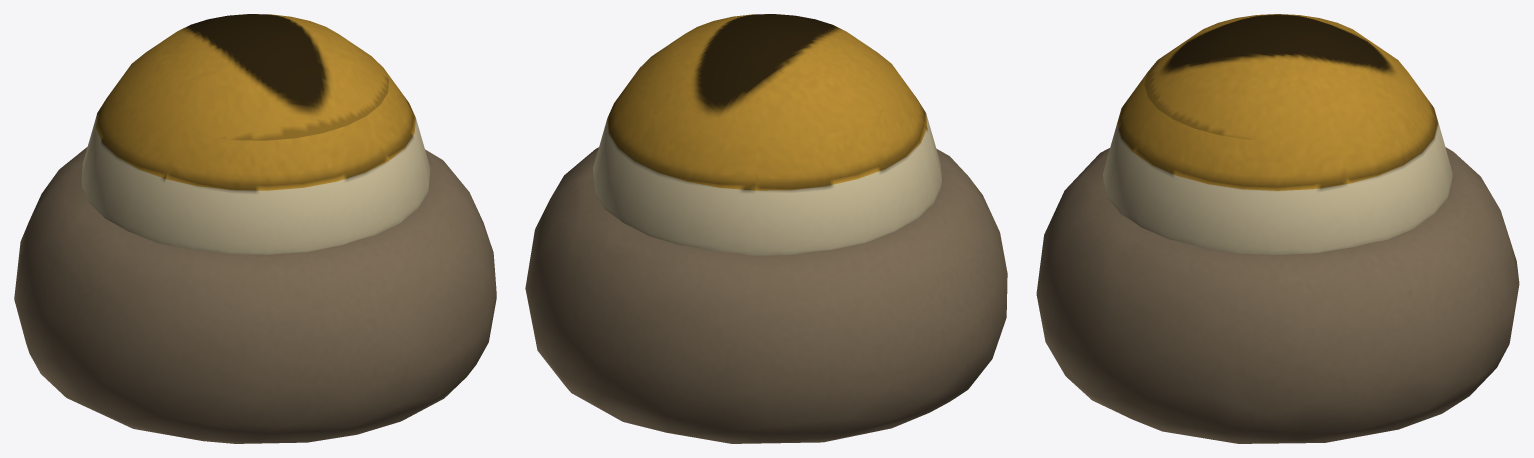
Rendered from cpart_eye_goat.glb.
3 views of the same model, side by side, from view 1: azimuth 30°, elevation 25°; view 2: azimuth 150°, elevation 25°; view 3: azimuth 270°, elevation 25° (orthographic).
Visible parts, largest first — view 1: Lid, EyeGoat; view 2: Lid, EyeGoat; view 3: Lid, EyeGoat.
Boxes of the visible parts, x1=… form: Lid: x1=14, y1=147, x2=496, y2=443; EyeGoat: x1=81, y1=14, x2=430, y2=254; Lid: x1=525, y1=147, x2=1007, y2=443; EyeGoat: x1=593, y1=14, x2=941, y2=255; Lid: x1=1036, y1=147, x2=1519, y2=443; EyeGoat: x1=1103, y1=14, x2=1452, y2=254.
Size of the model in its own units: 0.1287 by 0.0974 by 0.1293.
Materials: 3 (3 with a texture image).
